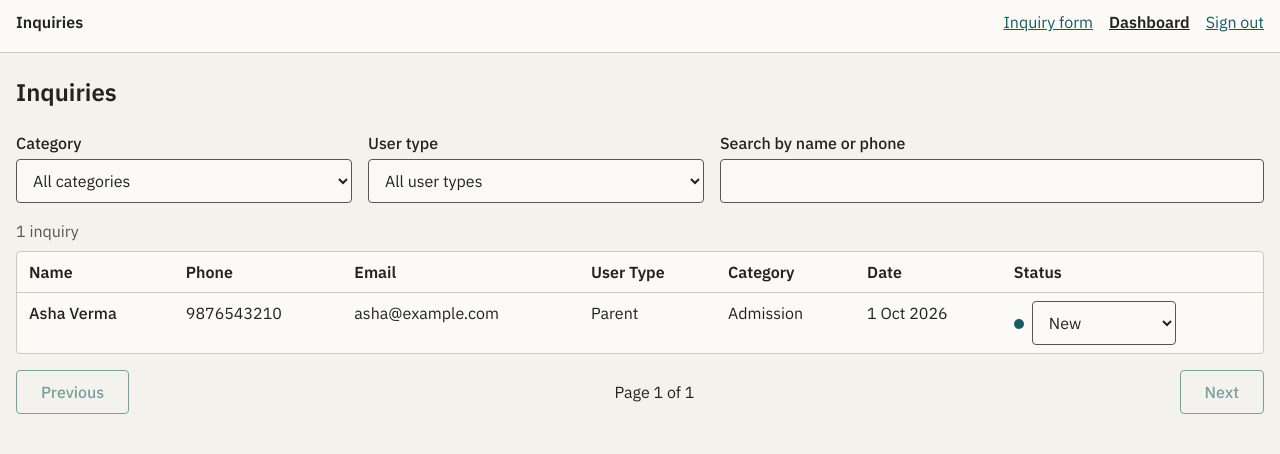
Test: dashboard › shows an error when saving the status fails and keeps the old value
Select "Resolved" in the dropdown named "Status for Asha Verma" at (1104, 323), box [1032,301,1176,345]
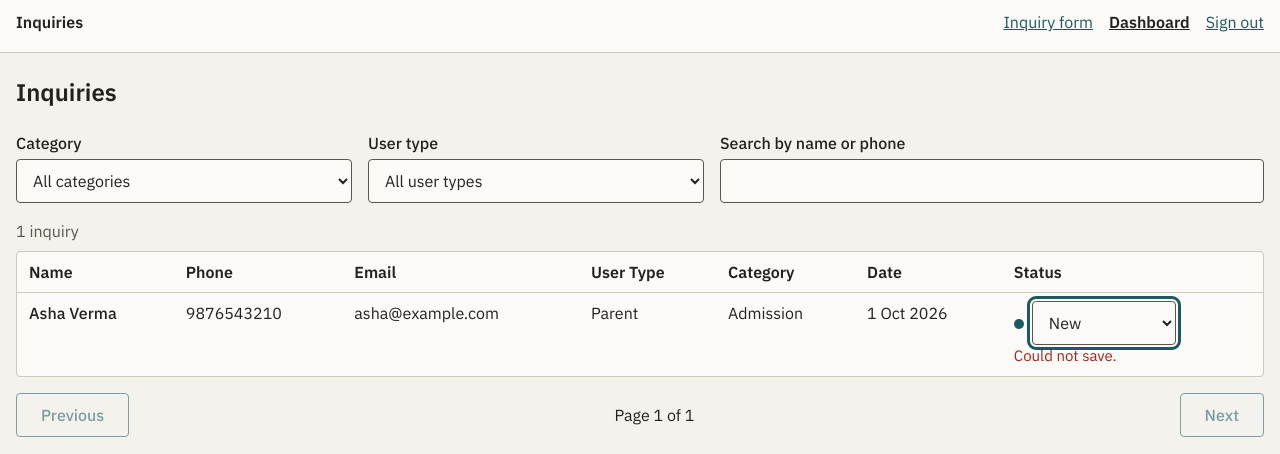
Check: the text "Could not save." is shown, box [1014,346,1117,365]
